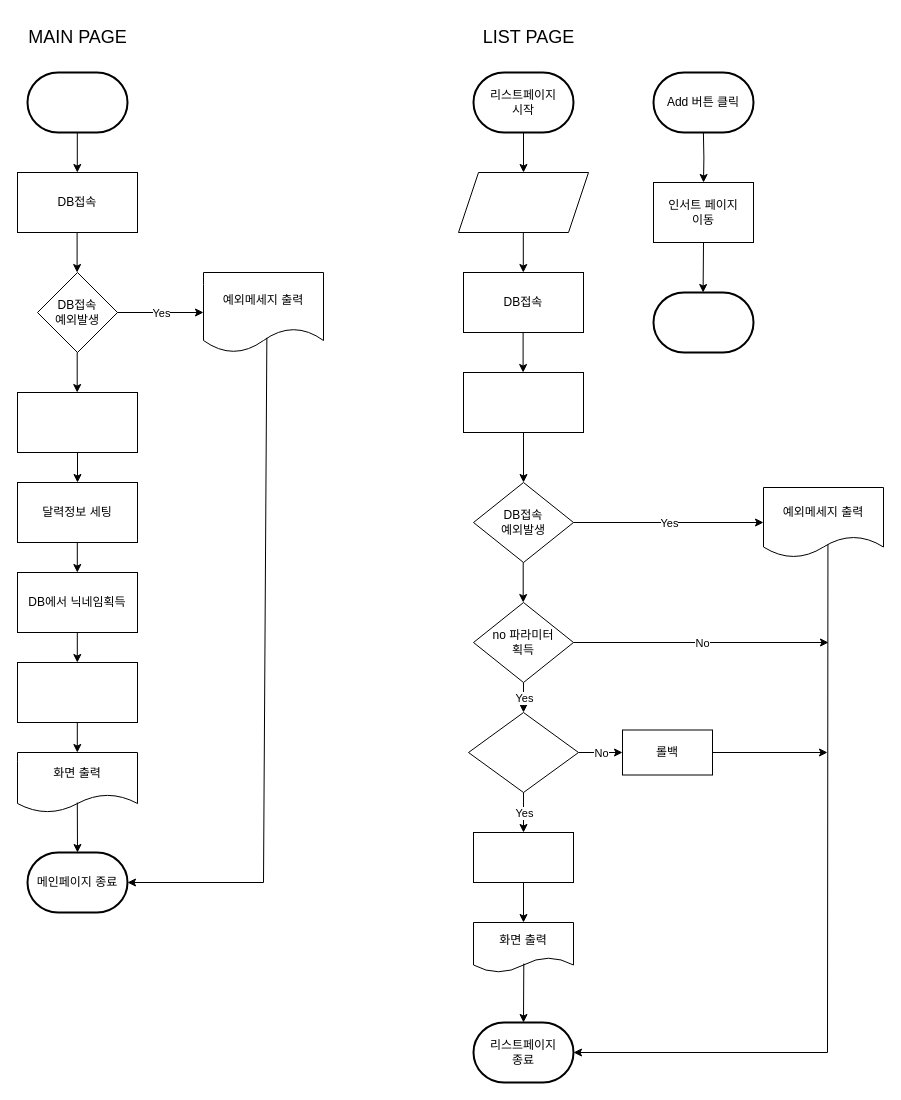
This 901x1100 diagram has some shape labels left out. Here are the shapes that lost their labels. From the top down, the centre of each, then its label:
[77,102]: 메인페이지 시작
[523,202]: URL에서 타겟날짜 획득
[703,322]: 처리 종료
[77,422]: 게이지 설정 세팅
[523,402]: DB에서 이미지정보 획득
[77,692]: DB에서 아바타 이미지 패스 획득
[523,752]: 체크처리 트랜젝션
[523,857]: 커밋
